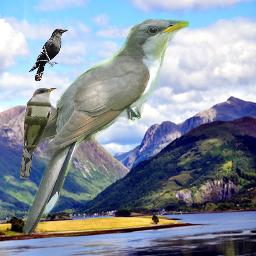Crow: (29, 28, 68, 81)
Cuckoo: (22, 19, 189, 235), (20, 87, 57, 179)
